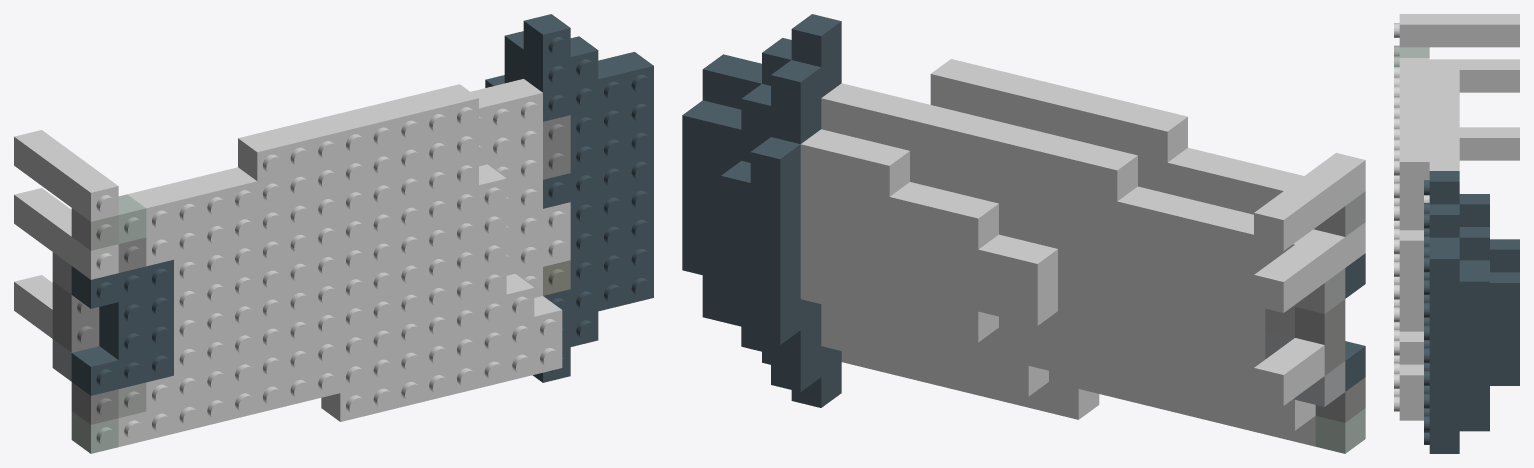
The model's file is full.glb.
3 renders of one model, left to right at view 1: azimuth 30°, elevation 25°; view 2: azimuth 150°, elevation 25°; view 3: azimuth 270°, elevation 25°, orthographic. The views are drawn at different scales.
Parts seen in each view (by area): view 1: world; view 2: world; view 3: world.
Boxes of the visible parts, <box> form: world: <box>14,14,653,453</box>; world: <box>682,14,1365,453</box>; world: <box>1394,14,1519,453</box>.
Size of the model in its own units: 168 by 96 by 40.2.
